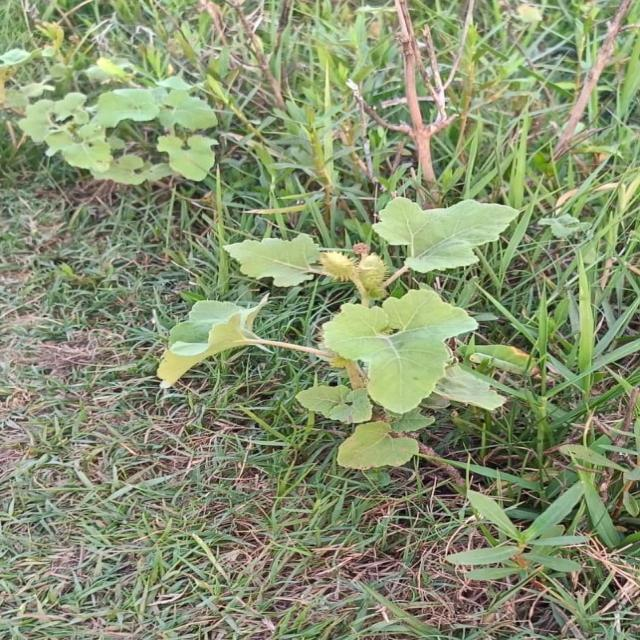weed: (156, 198, 519, 469), (161, 62, 173, 79)
